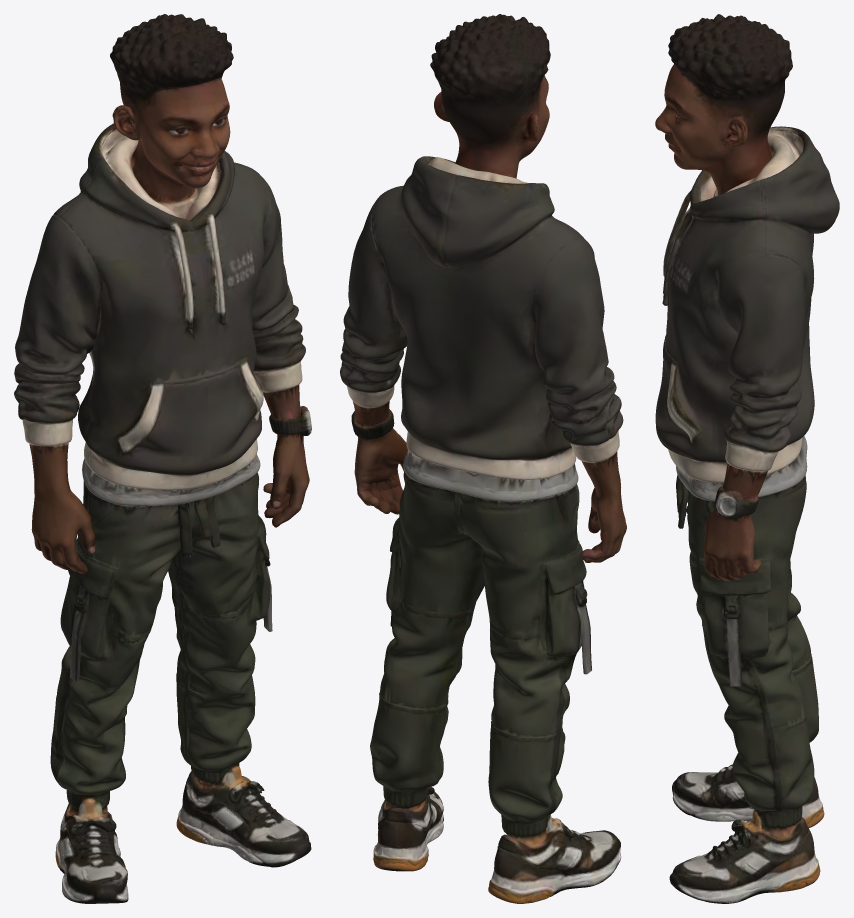
Rendered from adultmale3dmodel-v2.glb.
3 views of the same model, side by side, from view 1: azimuth 30°, elevation 25°; view 2: azimuth 150°, elevation 25°; view 3: azimuth 270°, elevation 25° (orthographic). The views are drawn at different scales.
Parts seen in each view (by area): view 1: tripo_node_a8e7b730-e822-4166-add3-6888933bed6a; view 2: tripo_node_a8e7b730-e822-4166-add3-6888933bed6a; view 3: tripo_node_a8e7b730-e822-4166-add3-6888933bed6a.
Boxes of the visible parts, x1,y1,x2,y2 form: tripo_node_a8e7b730-e822-4166-add3-6888933bed6a: (14,14,311,903); tripo_node_a8e7b730-e822-4166-add3-6888933bed6a: (340,14,626,903); tripo_node_a8e7b730-e822-4166-add3-6888933bed6a: (655,14,839,903).
Size of the model in its own units: 0.3357 by 0.9796 by 0.1976.
Materials: 1 (1 with a texture image).
